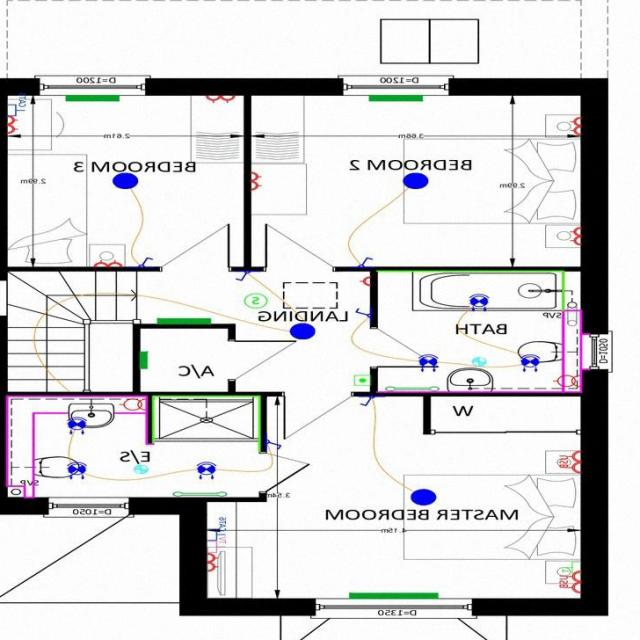Cat 6 Data Socket: (208, 515, 228, 539), (9, 95, 26, 115)
Ceiling Mounted Continuous Extract FanWith Boost Mode Activated By Light Switch: (474, 356, 487, 365), (136, 464, 148, 472)
Co-Ax TV Socket: (208, 534, 228, 550)
Double Socket: (208, 552, 220, 572), (95, 258, 124, 266), (207, 95, 236, 103), (571, 226, 582, 247), (252, 170, 263, 190), (571, 116, 582, 135), (9, 116, 18, 133)
Full Height Tiling: (377, 270, 565, 309), (153, 395, 262, 452)
Light Switch: (236, 270, 252, 280), (139, 256, 154, 266), (360, 256, 376, 265), (268, 439, 282, 449), (356, 308, 371, 317), (360, 396, 374, 405)
Low Energy Downlighter: (419, 353, 439, 372), (68, 461, 87, 480), (521, 353, 541, 371), (198, 461, 217, 479), (470, 293, 490, 310), (69, 416, 87, 434)
Low Energy Pendant Light: (411, 488, 436, 505), (113, 172, 139, 188), (404, 172, 429, 188), (291, 322, 316, 338)
Mains Wired Smoke Detector: (245, 293, 268, 306)
Programmable Room Thermostat: (355, 375, 371, 385)
Radiator: (350, 592, 439, 598), (157, 317, 213, 323), (370, 95, 424, 101), (67, 95, 120, 101), (142, 351, 148, 367)
Shaver Socket: (120, 396, 148, 412), (554, 374, 581, 387)
Single Socket: (360, 275, 372, 285)
Telephone Socket: (566, 560, 582, 572)
USB Double Socket: (561, 449, 582, 473), (561, 570, 581, 592)
